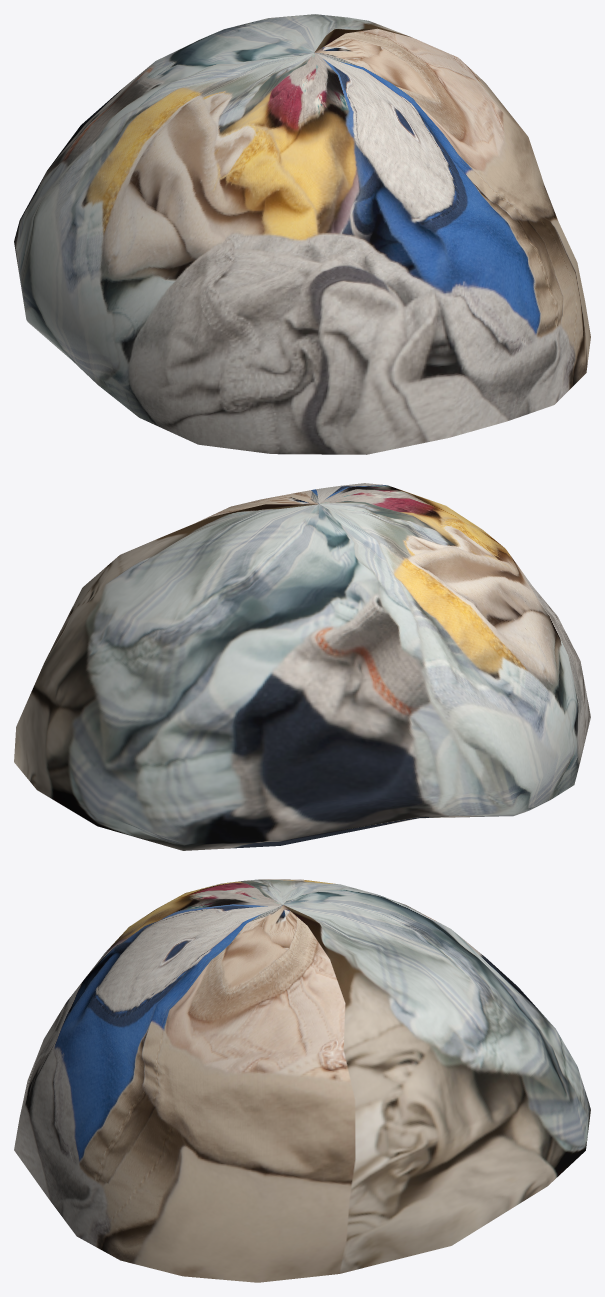
File: ClothingPile001.FBX
The picture shows the model from 3 angles, top to bottom: view 1: azimuth 30°, elevation 25°; view 2: azimuth 150°, elevation 25°; view 3: azimuth 270°, elevation 25°; orthographic projection. The views are drawn at different scales.
Visible parts, largest first — view 1: ClothingPile001; view 2: ClothingPile001; view 3: ClothingPile001.
Boxes of the visible parts, left/top/right/bottom form: ClothingPile001: left=14, top=14, right=590, bottom=454; ClothingPile001: left=14, top=483, right=590, bottom=850; ClothingPile001: left=14, top=879, right=590, bottom=1282.
Bounding box in the file's own units: 23.47 × 13.73 × 26.04.
1 material, 1 textured.
